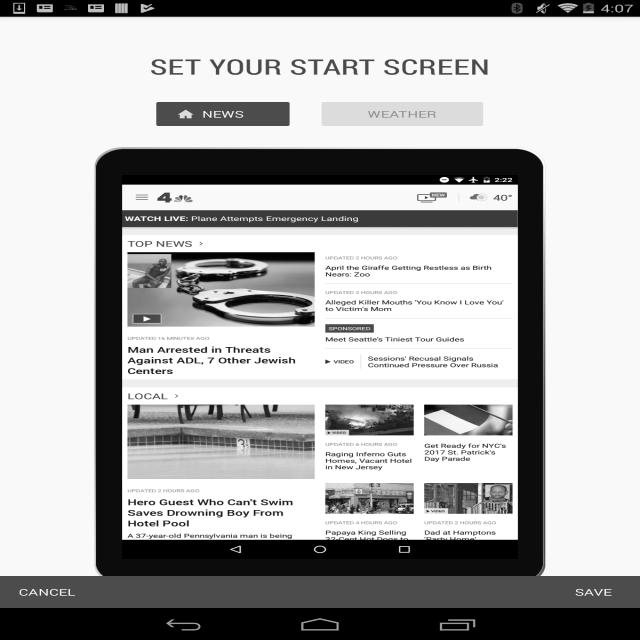Button: (149, 95, 292, 126), (312, 102, 487, 126)
ImageView: (96, 146, 549, 572)
TextView: (146, 54, 502, 83), (13, 574, 100, 604), (563, 580, 616, 604)
